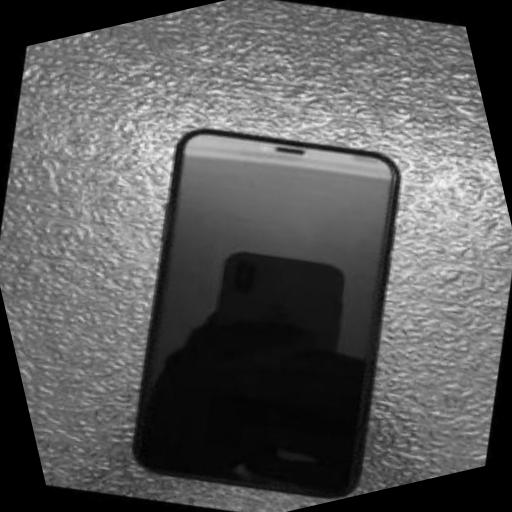phone: (133, 126, 400, 501)
